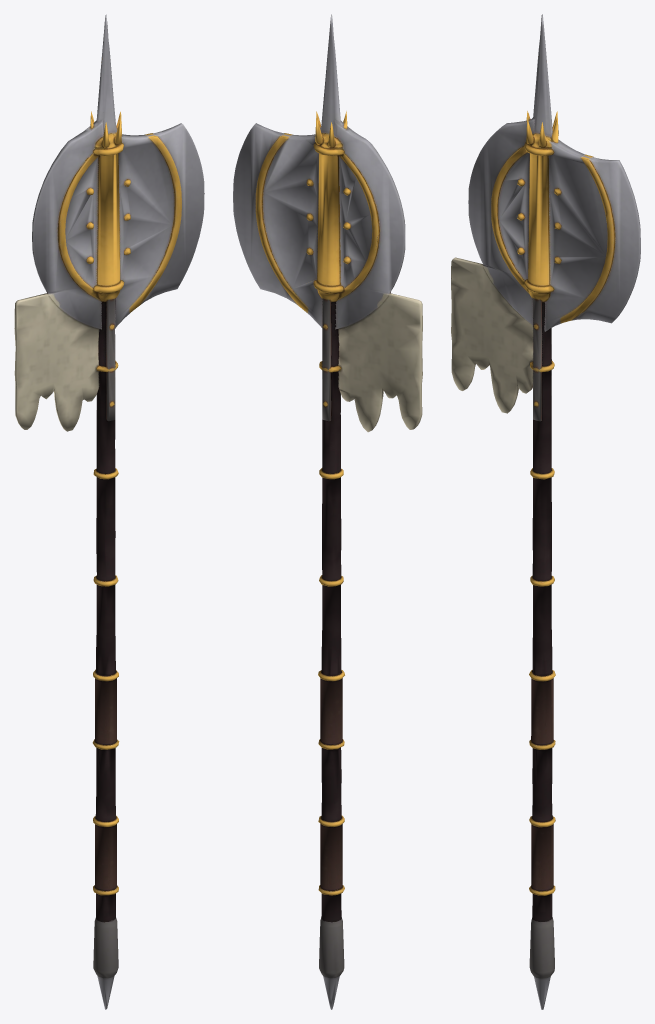
File: boss_captain_halberd_oxide.glb
3 renders of one model, left to right at view 1: azimuth 30°, elevation 25°; view 2: azimuth 150°, elevation 25°; view 3: azimuth 330°, elevation 25°, orthographic.
Parts seen in each view (by area): view 1: boss_captain_halberd_oxide; view 2: boss_captain_halberd_oxide; view 3: boss_captain_halberd_oxide.
Boxes of the visible parts, <box> form: boss_captain_halberd_oxide: <box>14,14,204,1009</box>; boss_captain_halberd_oxide: <box>233,14,422,1009</box>; boss_captain_halberd_oxide: <box>451,14,640,1009</box>.
Size of the model in its own units: 0.6913 by 3.48 by 0.1158.
1 material, 1 textured.
